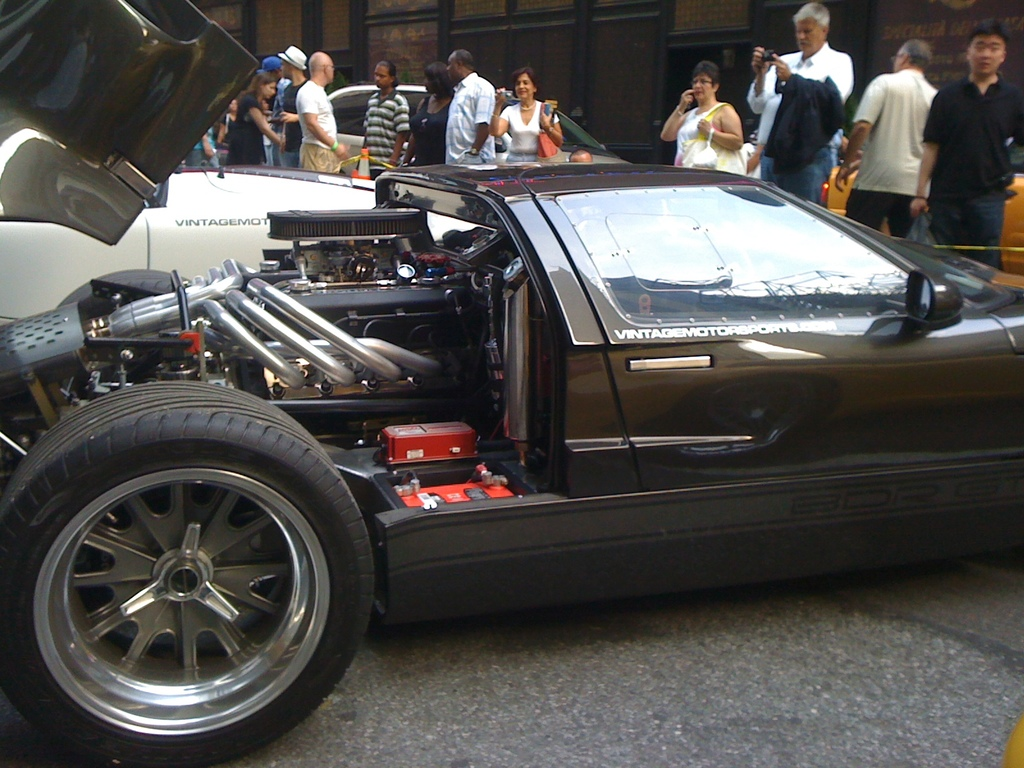Car: (0, 0, 995, 709)
